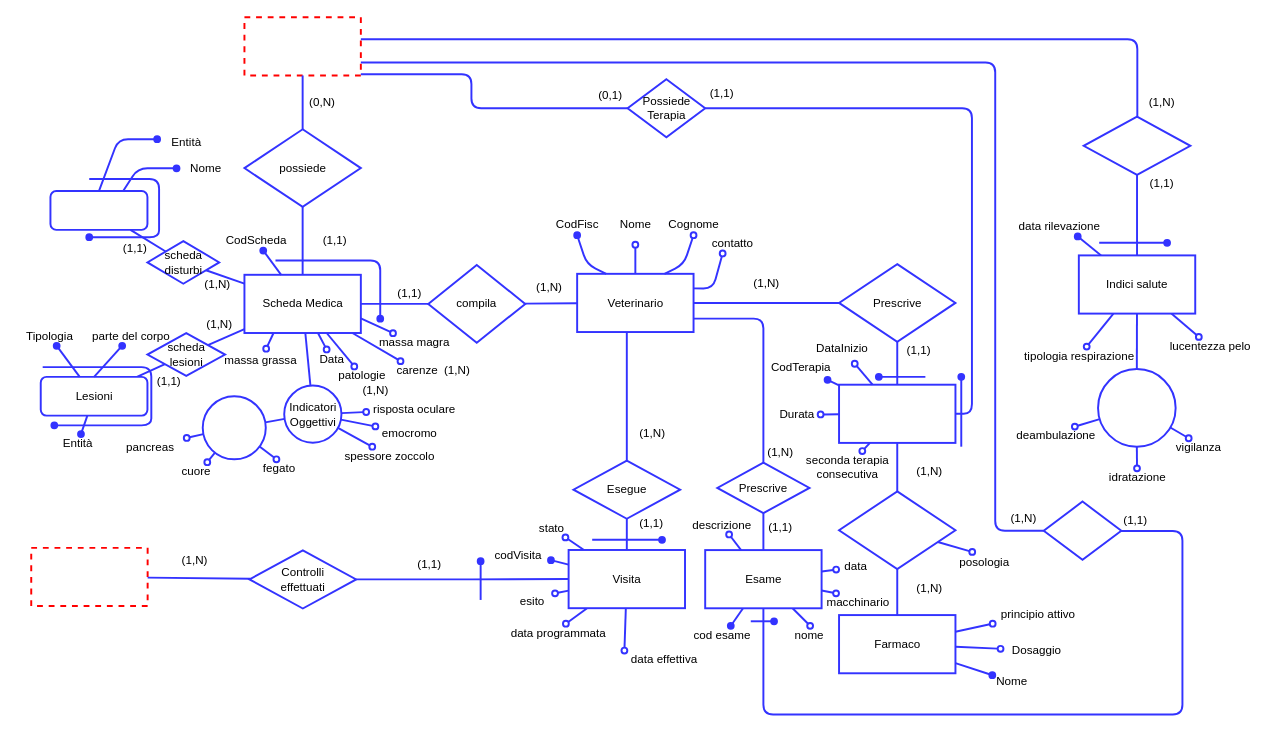
This 1276x733 diagram has some shape labels left out. Each missing label, with the box of its shape:
Animale: (243, 16, 361, 76)
composta da: (838, 490, 956, 569)
Disturbi Comportamentali: (49, 190, 148, 230)
Funzionalità organi: (201, 395, 266, 460)
livello: (1097, 368, 1176, 447)
Possiede Esame: (1042, 500, 1122, 560)
Scheda gestazione: (30, 546, 148, 607)
stato salute: (1082, 115, 1191, 175)
Terapia: (838, 383, 956, 443)
